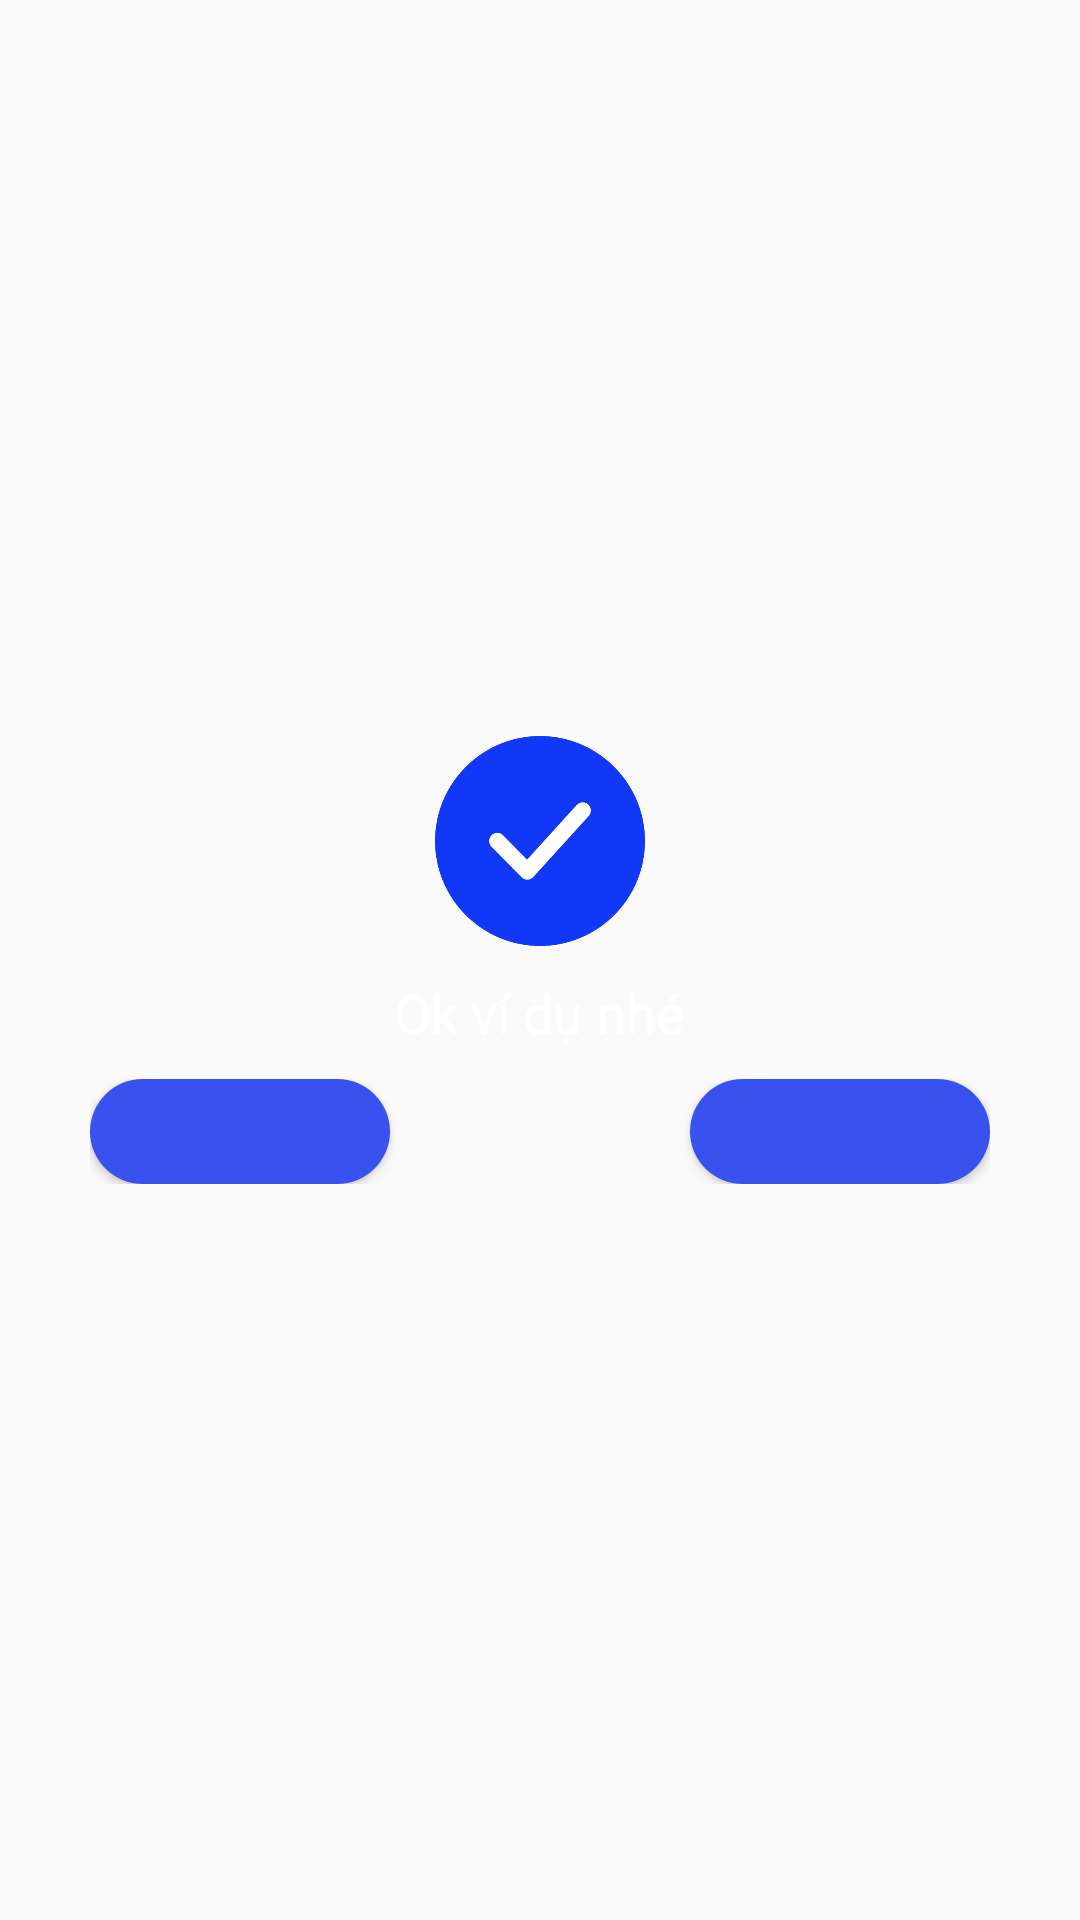

Where to tap for icons on this 1080x1920 app screen, as (x,y):
success: (540,841)
